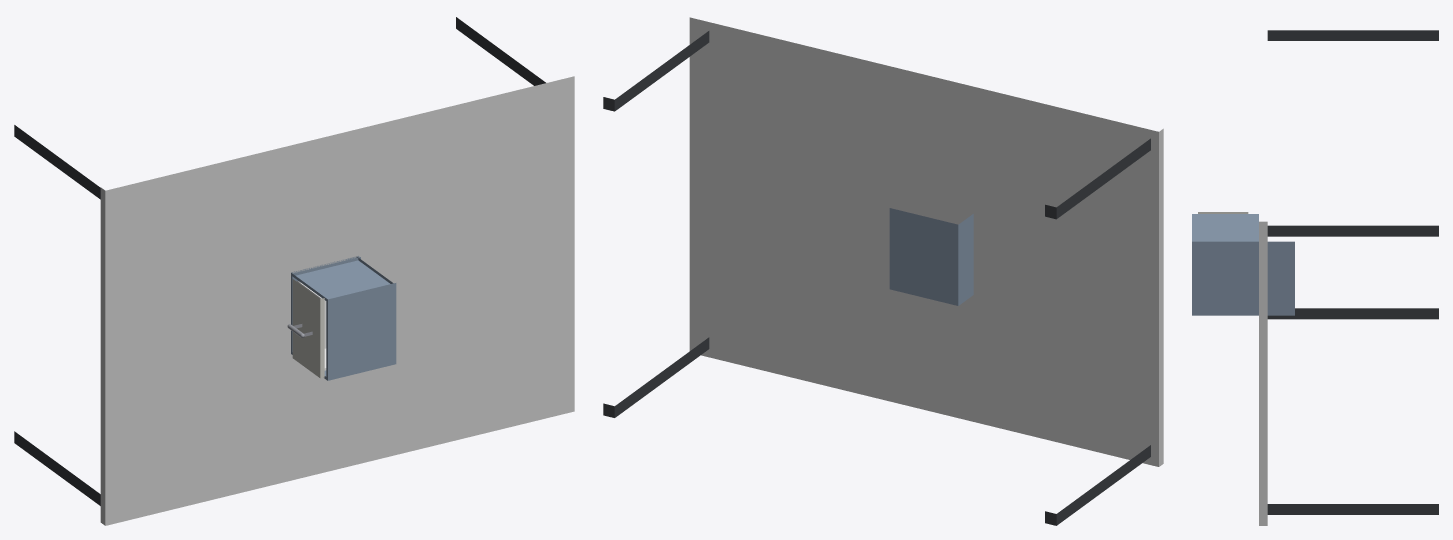
The picture shows the model from 3 angles, left to right: view 1: azimuth 30°, elevation 25°; view 2: azimuth 150°, elevation 25°; view 3: azimuth 270°, elevation 25°; orthographic projection. The views are drawn at different scales.
Parts seen in each view (by area): view 1: s0, s1, s2; view 2: s0, s1; view 3: s0, s1.
Boxes of the visible parts, <box> form: s0: <box>14,17,574,525</box>; s1: <box>291,256,396,380</box>; s2: <box>287,279,326,378</box>; s0: <box>603,17,1163,525</box>; s1: <box>889,208,973,305</box>; s0: <box>1259,30,1438,525</box>; s1: <box>1192,214,1294,315</box>.
Size of the model in its own units: 2.05 by 1.4 by 1.03.
